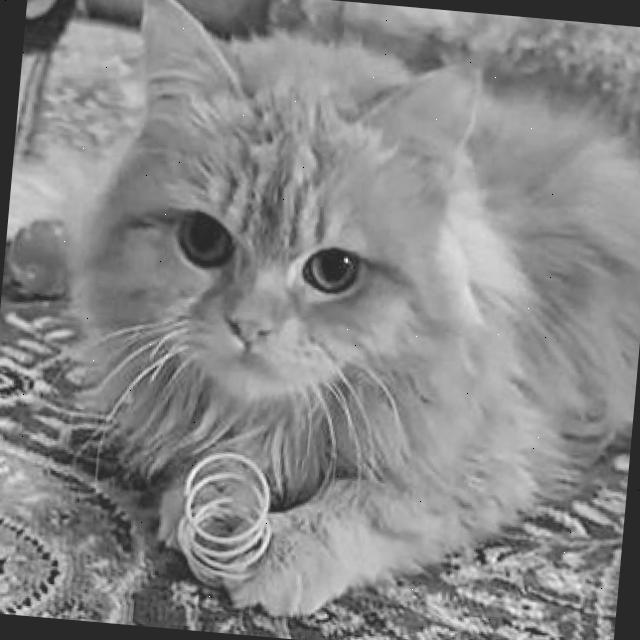persian_cat: (69, 0, 505, 449)
